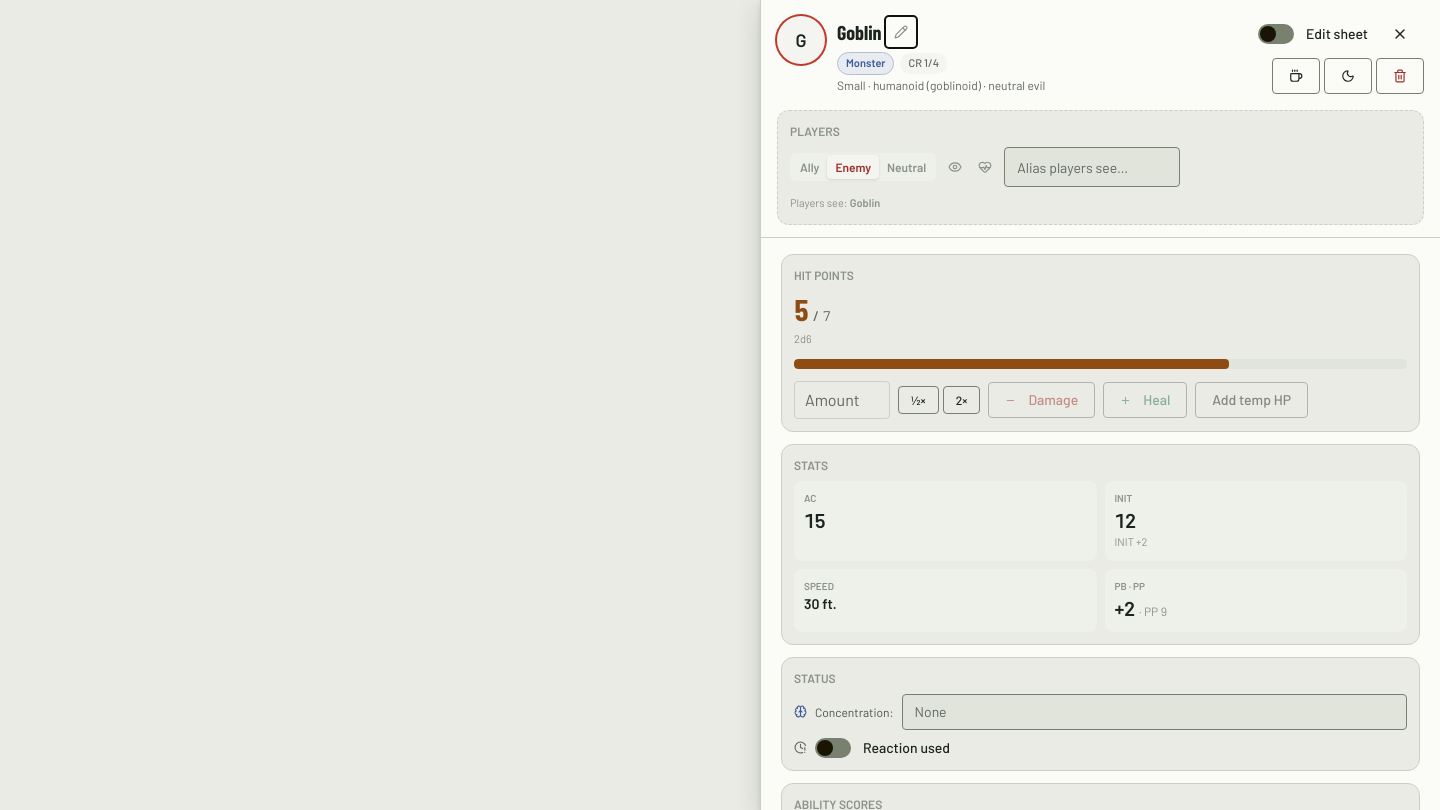
CreatureDrawer › shows the editing banner and leaves it with Done
Click the switch named "Edit sheet" next to "Edit sheet": [1276, 34] box [1258,24,1294,44]
(page scrolled)
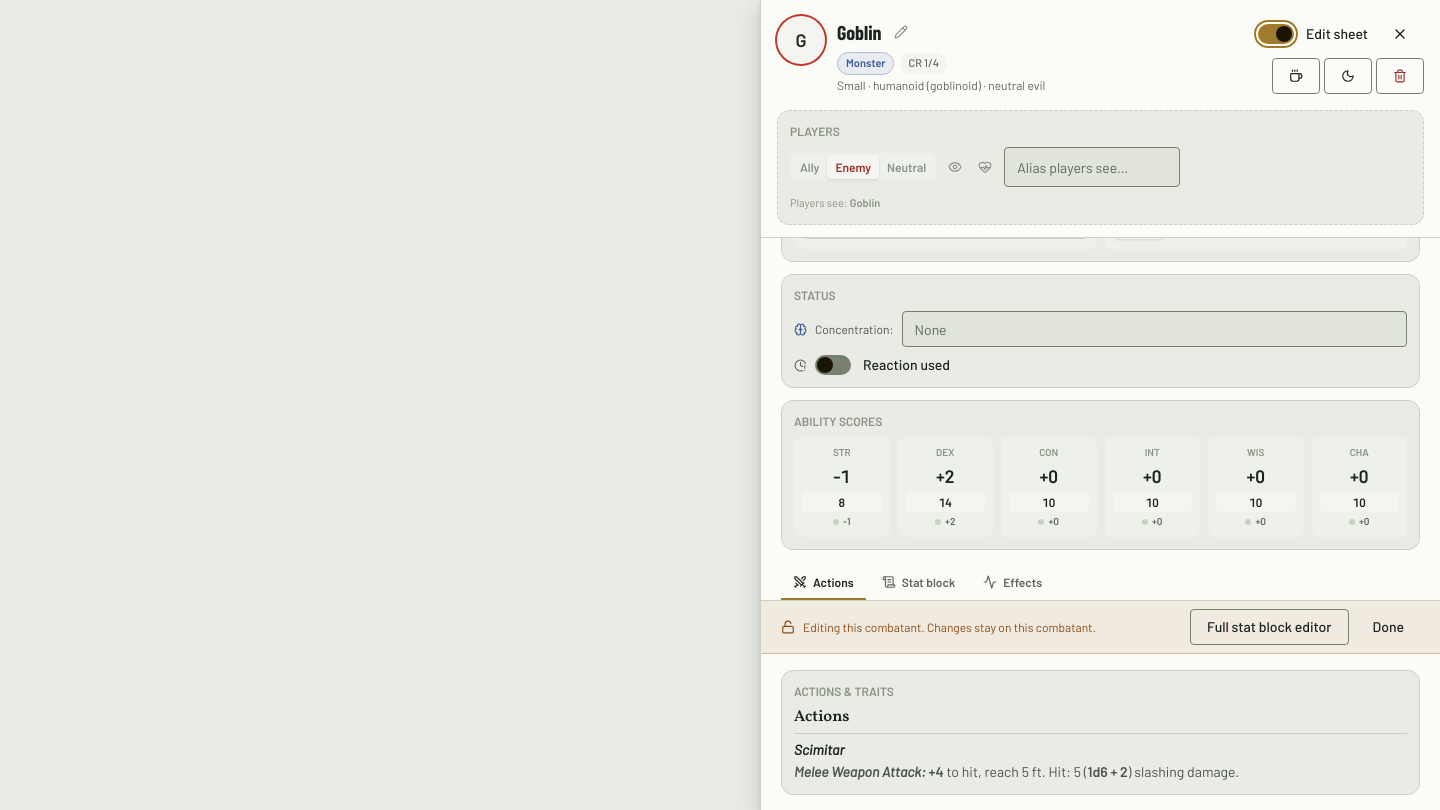
Check: the text "Editing this combatant. Changes stay on this combatant." is shown, box [803,620,1096,634]
Click the button "Done": [1388, 627] box [1357,609,1420,645]
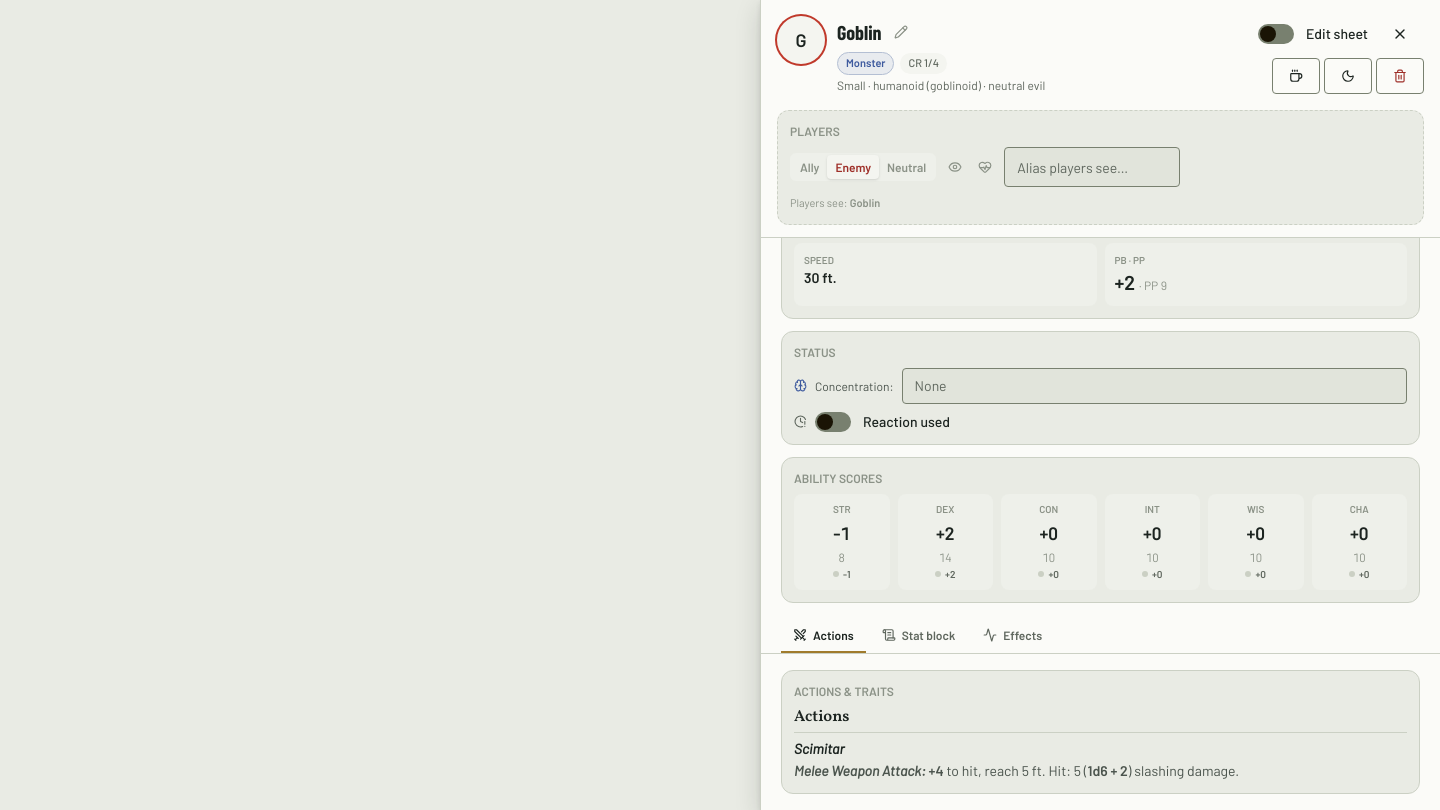
Check: the text "Editing this combatant" is gone
